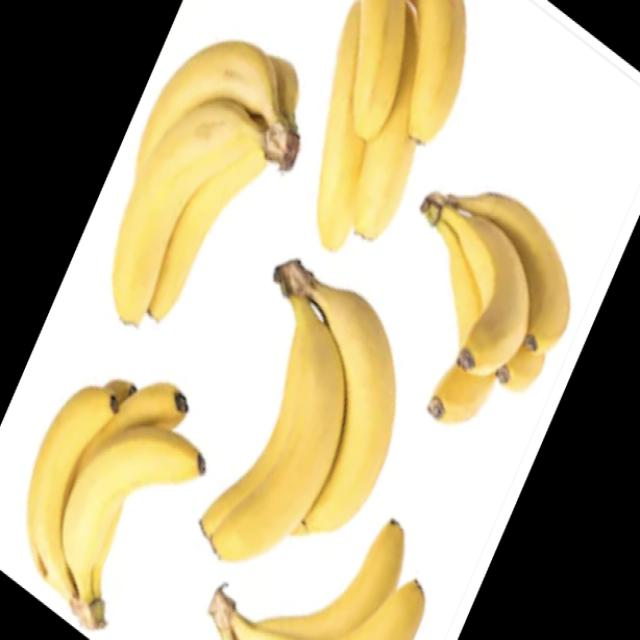god quality banana: (200, 260, 396, 561), (113, 41, 299, 324), (27, 379, 205, 629), (318, 0, 467, 248), (422, 191, 570, 423), (210, 524, 425, 640)
